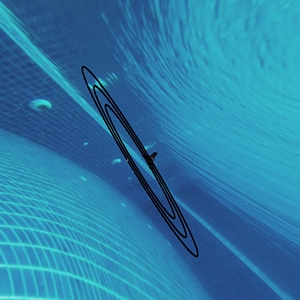circle: (74, 55, 214, 273)
